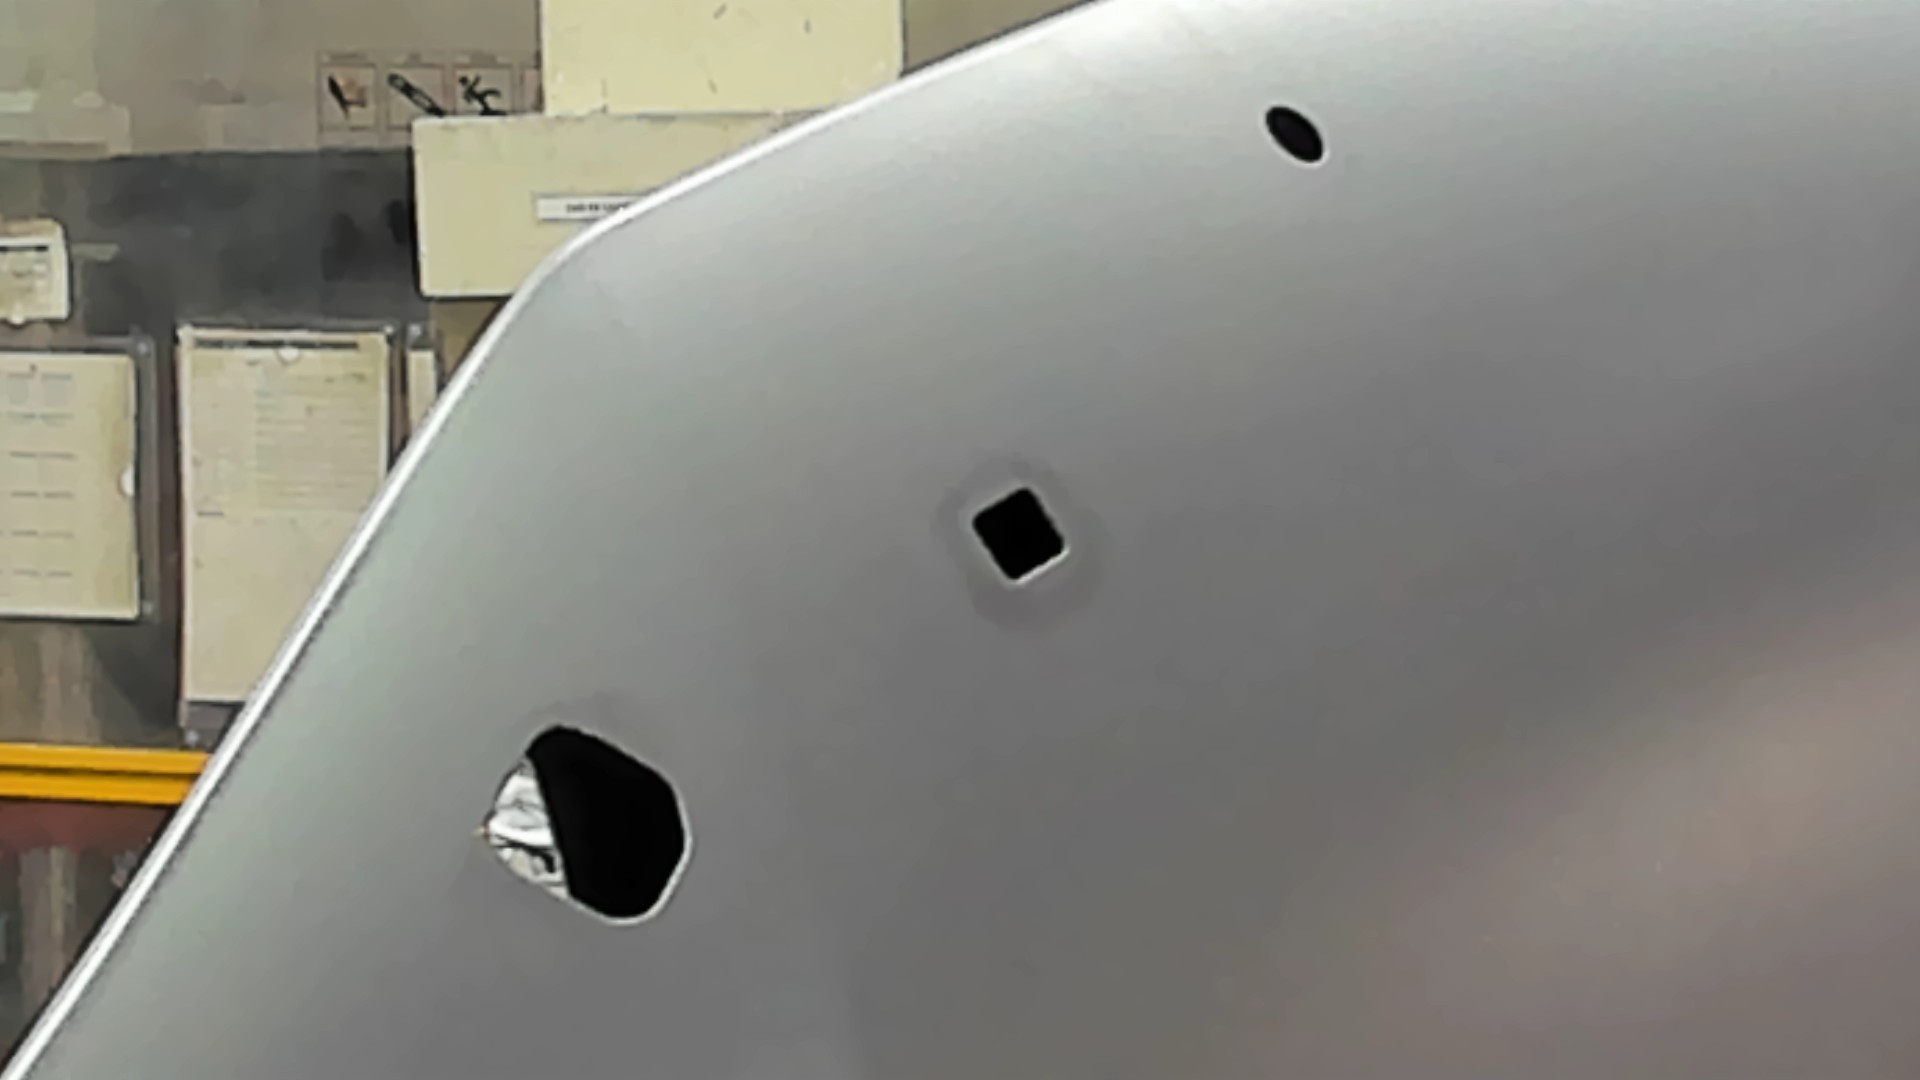chico: (1261, 103, 1328, 167)
grande: (475, 724, 703, 931)
mediano: (963, 481, 1071, 589)
